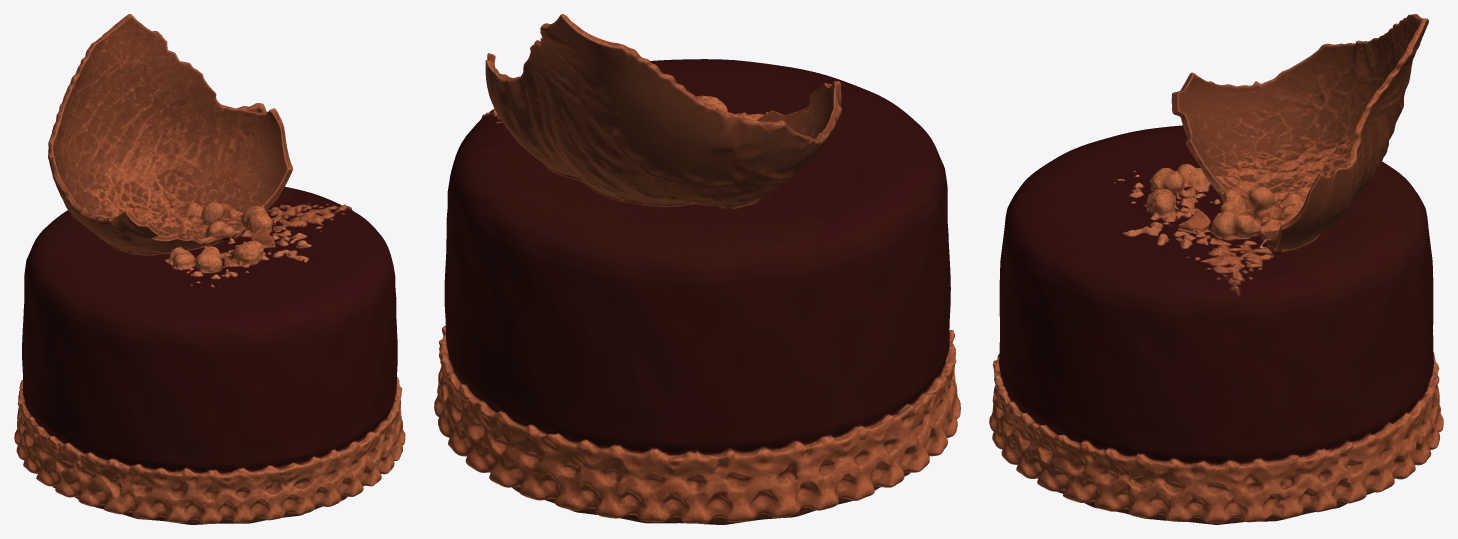
File: soft-hour-hero-dessert.glb
The picture shows the model from 3 angles, left to right: view 1: azimuth 30°, elevation 25°; view 2: azimuth 150°, elevation 25°; view 3: azimuth 270°, elevation 25°; orthographic projection. The views are drawn at different scales.
Bounding box in the file's own units: 1.84 × 1.9 × 1.84.
Materials: 1 (1 with a texture image).
